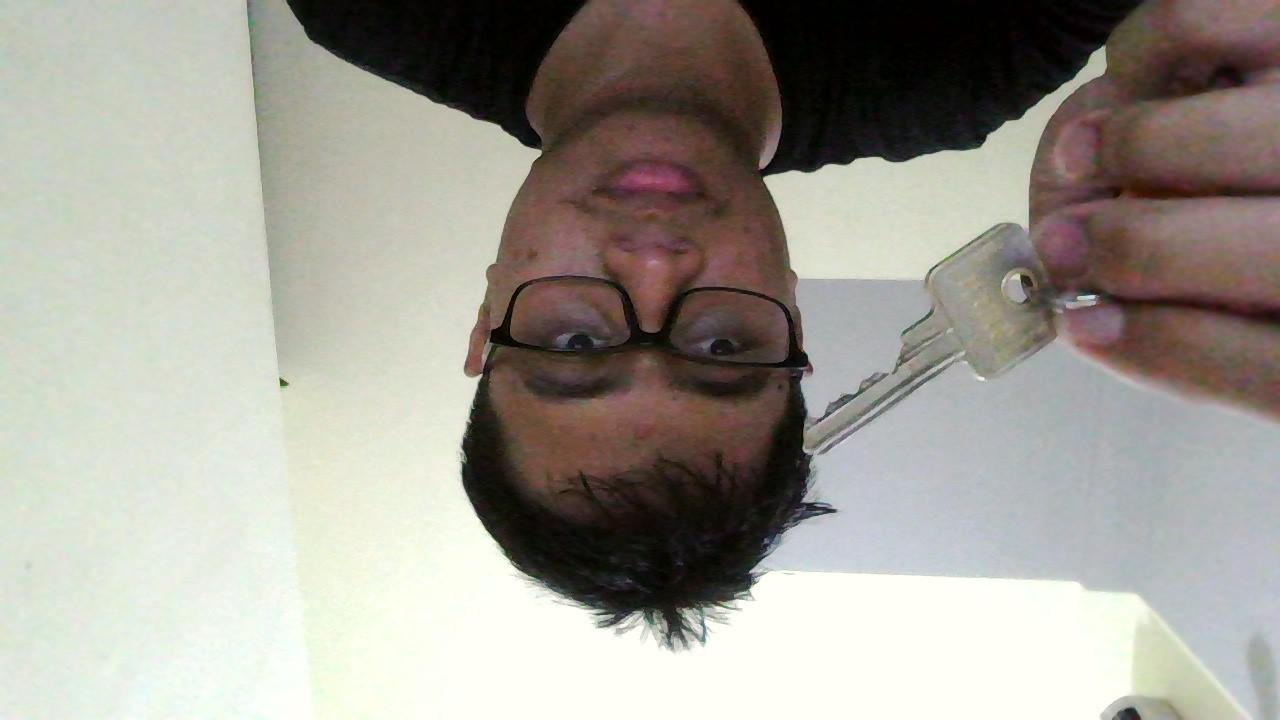keys: (795, 218, 1080, 464)
